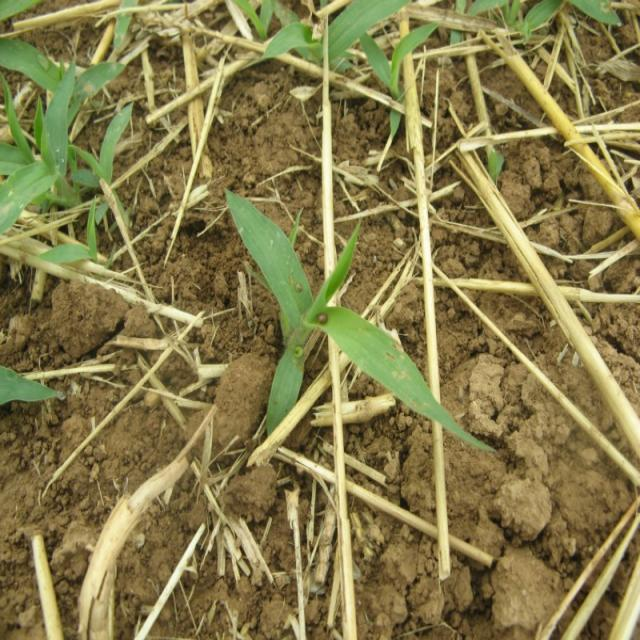bg: (223, 187, 487, 444)
